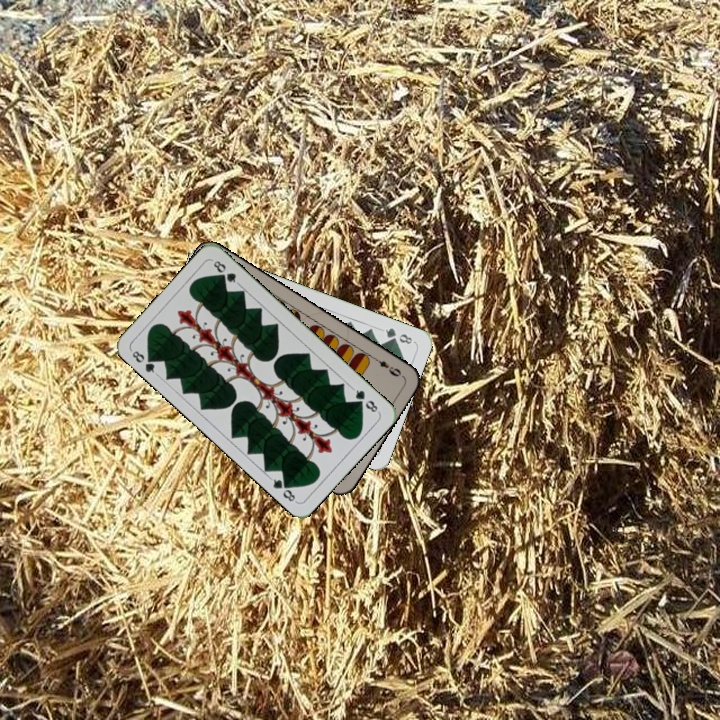E9: (369, 353, 405, 379)
G8: (348, 384, 382, 416), (127, 346, 160, 378), (381, 324, 415, 347)
